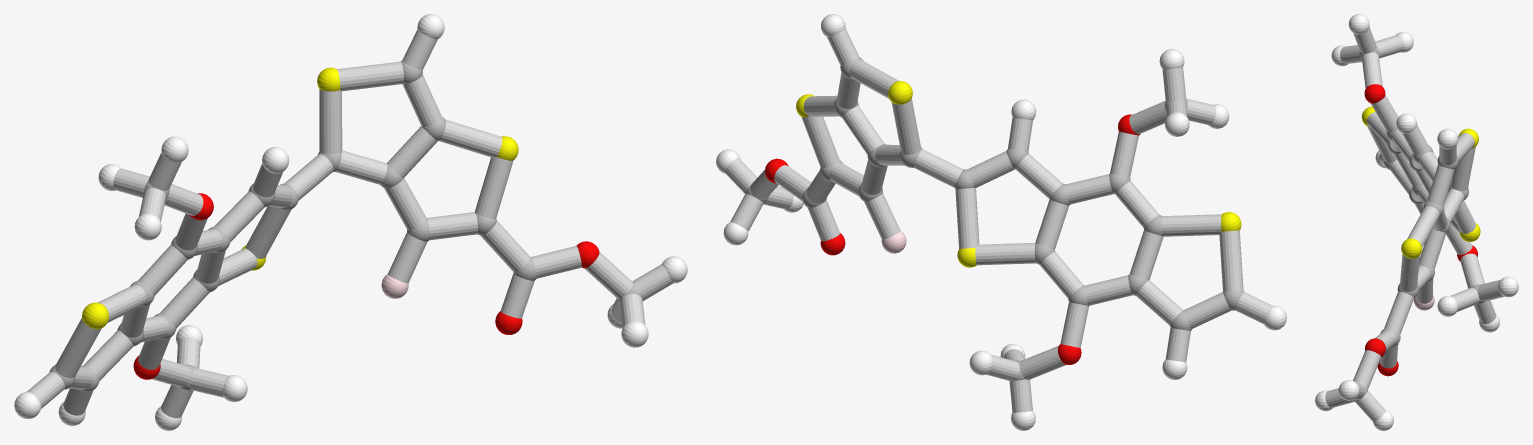
The model's file is color.glb.
The picture shows the model from 3 angles, left to right: view 1: azimuth 30°, elevation 25°; view 2: azimuth 150°, elevation 25°; view 3: azimuth 270°, elevation 25°; orthographic projection. The views are drawn at different scales.
Parts seen in each view (by area): view 1: grp15205, grp8689, grp1, grp7241, grp13395; view 2: grp15205, grp8689, grp1, grp7241, grp13395; view 3: grp15205, grp8689, grp1, grp13395, grp7241.
Boxes of the visible parts, left/top/right/bottom form: grp15205: left=27, top=29, right=673, bottom=418; grp8689: left=14, top=14, right=687, bottom=430; grp1: left=49, top=60, right=642, bottom=392; grp7241: left=82, top=67, right=518, bottom=329; grp13395: left=133, top=193, right=599, bottom=379; grp15205: left=725, top=28, right=1272, bottom=412; grp8689: left=716, top=14, right=1286, bottom=430; grp1: left=745, top=56, right=1243, bottom=380; grp7241: left=796, top=81, right=1241, bottom=267; grp13395: left=765, top=114, right=1140, bottom=364; grp15205: left=1325, top=27, right=1504, bottom=421; grp8689: left=1315, top=14, right=1518, bottom=430; grp1: left=1352, top=46, right=1485, bottom=401; grp13395: left=1364, top=84, right=1477, bottom=376; grp7241: left=1361, top=106, right=1480, bottom=258.
Size of the model in its own units: 16.38 by 9.14 by 5.81.
